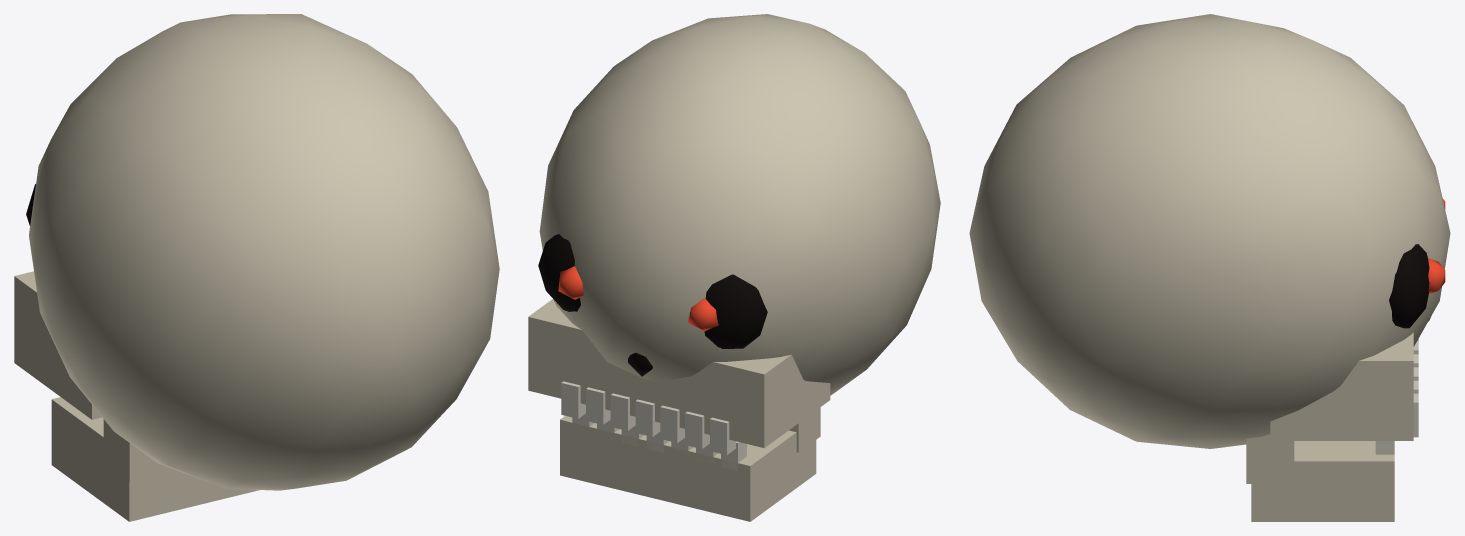
File: crypt_skull.glb
The picture shows the model from 3 angles, left to right: view 1: azimuth 30°, elevation 25°; view 2: azimuth 150°, elevation 25°; view 3: azimuth 270°, elevation 25°; orthographic projection. The views are drawn at different scales.
Visible parts, largest first — view 1: crypt_skull; view 2: crypt_skull; view 3: crypt_skull.
Part boxes in pixels (x1,y1,x2,y2): crypt_skull: (14, 14, 499, 521); crypt_skull: (528, 14, 940, 521); crypt_skull: (969, 14, 1450, 521).
Bounding box in the file's own units: 2.28 × 2.61 × 2.62.
